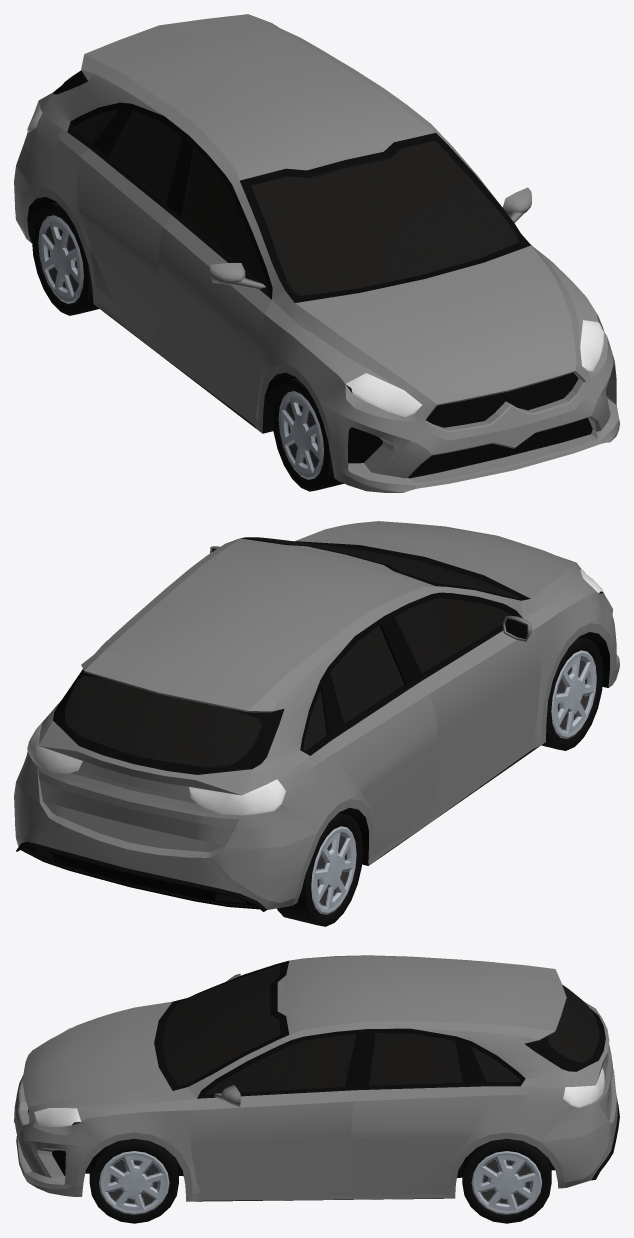
The model's file is kie.fbx.
3 views of the same model, one above another, from view 1: azimuth 30°, elevation 25°; view 2: azimuth 150°, elevation 25°; view 3: azimuth 270°, elevation 25° (orthographic). The views are drawn at different scales.
Parts seen in each view (by area): view 1: polySurface8z, pCylinder4z, pCylinder3z; view 2: polySurface8z, pCylinder3z, pCylinder4z; view 3: polySurface8z, pCylinder1z, pCylinder2z.
Part boxes in pixels (bbox=[...]): polySurface8z: bbox=[14, 14, 619, 492]; pCylinder4z: bbox=[272, 378, 343, 491]; pCylinder3z: bbox=[31, 202, 99, 315]; polySurface8z: bbox=[14, 521, 619, 911]; pCylinder3z: bbox=[277, 813, 363, 926]; pCylinder4z: bbox=[541, 637, 603, 750]; polySurface8z: bbox=[14, 955, 619, 1201]; pCylinder1z: bbox=[462, 1138, 551, 1223]; pCylinder2z: bbox=[89, 1138, 178, 1223].
Bounding box in the file's own units: 15.11 × 10.99 × 32.04.
